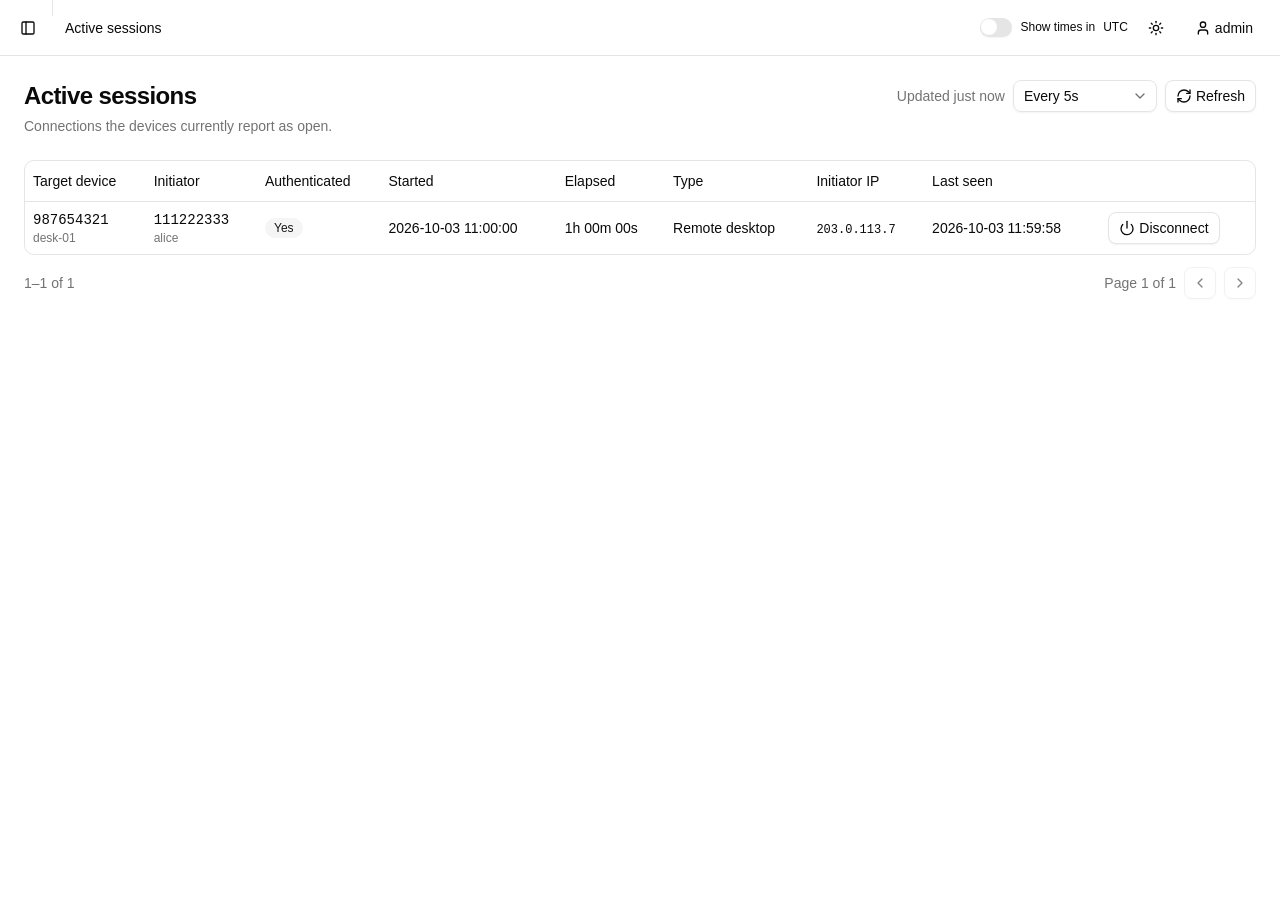
Test: remote disconnect › shows the API error in the dialog when the session is no longer active
What coordinates should you click on to do the following:
click the button with aria-label "Disconnect session on 987654321"
I would click on:
 (1164, 228)
Its box is 1108,212 -> 1220,244.
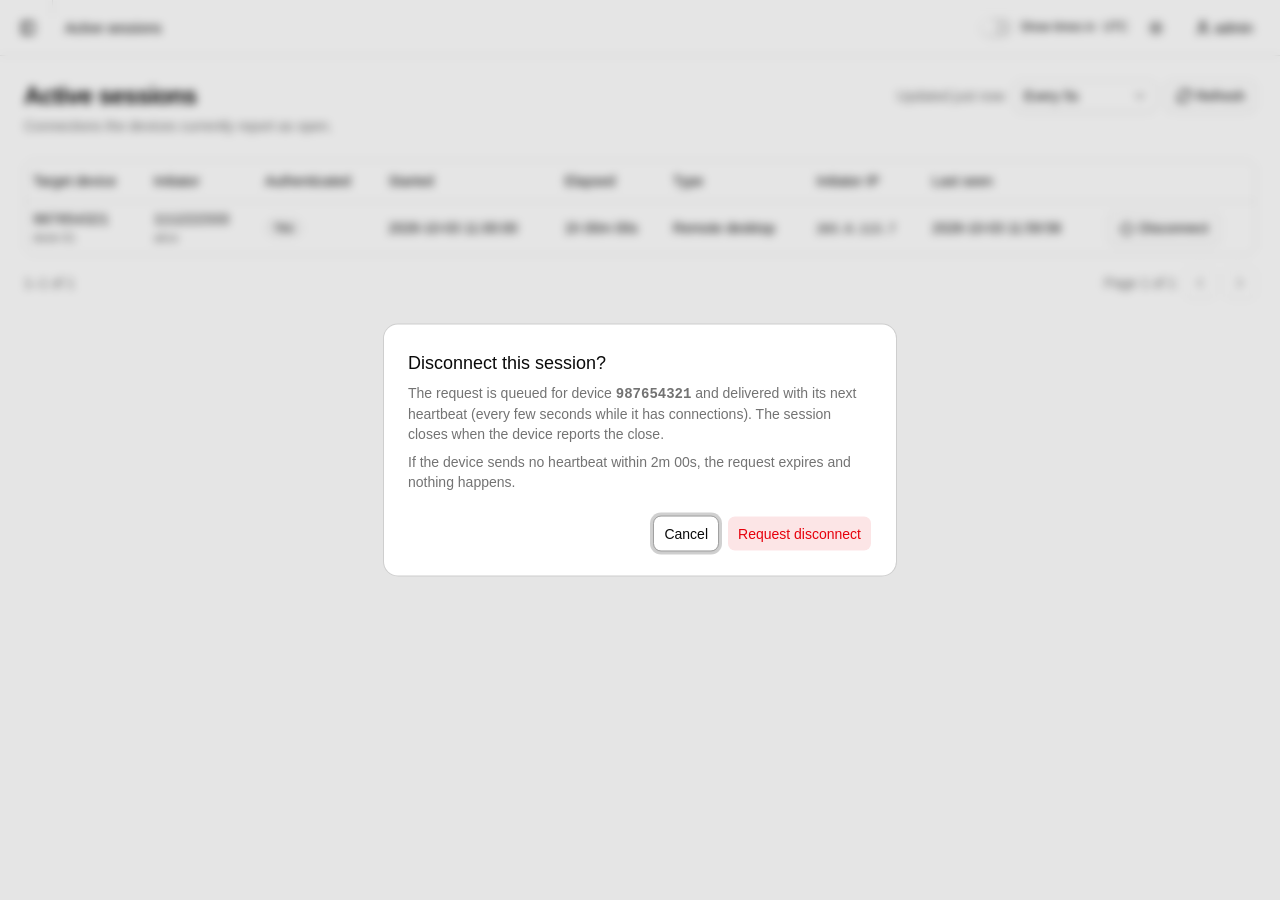
Expected: the text "next heartbeat" is shown, 408,384 -> 856,442
What coordinates should you click on to do the following:
click the button "Request disconnect"
I would click on:
 (800, 534)
Its box is 727,516 -> 872,552.
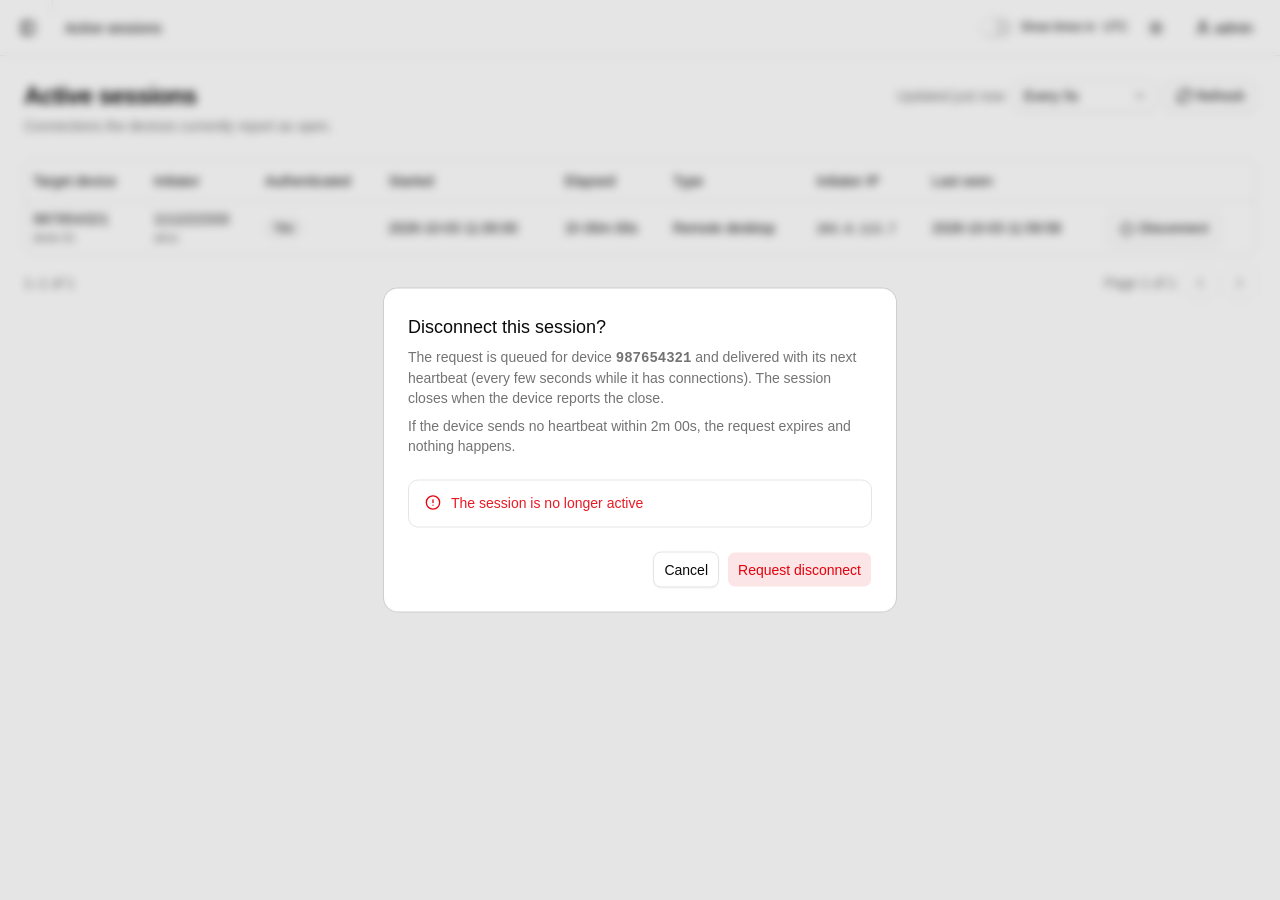
Expected: the text "The session is no longer active" is shown, 451,494 -> 643,510
